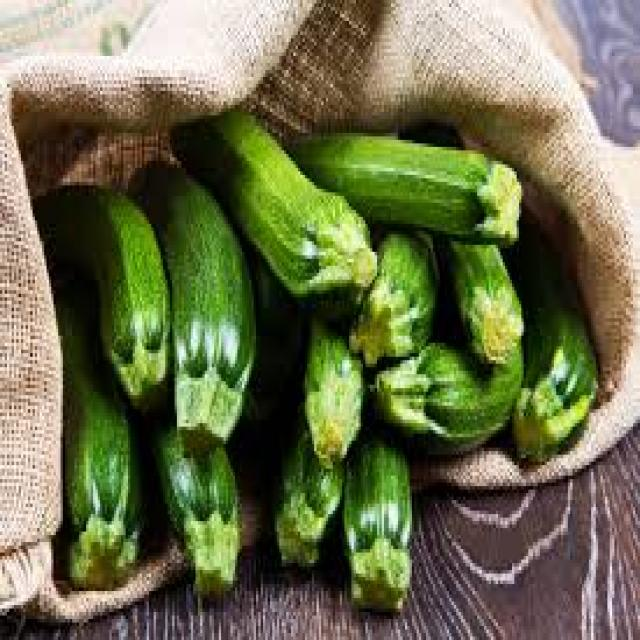organic waste: (168, 105, 374, 315), (123, 161, 256, 448), (28, 178, 172, 410), (44, 248, 142, 588), (282, 129, 521, 245), (498, 199, 596, 465), (365, 329, 526, 458), (152, 413, 238, 598), (340, 426, 410, 608), (347, 220, 433, 364), (270, 395, 342, 567), (433, 228, 521, 360), (298, 304, 363, 462)
